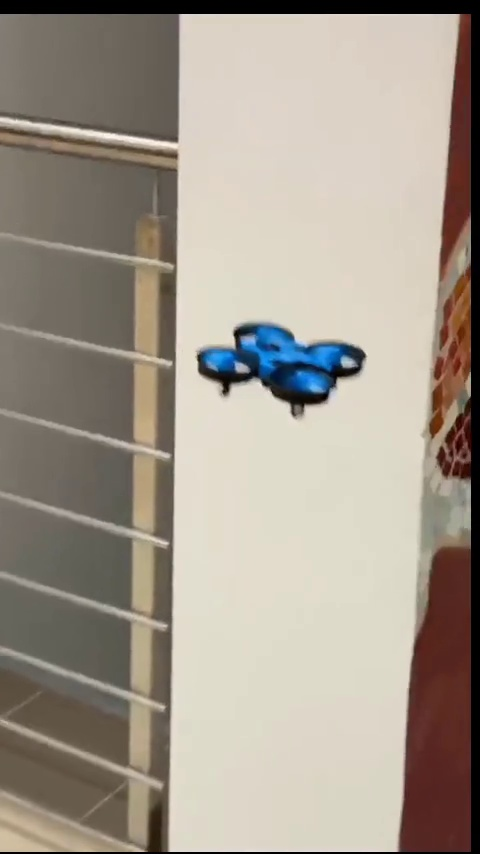drone: (197, 323, 367, 420)
